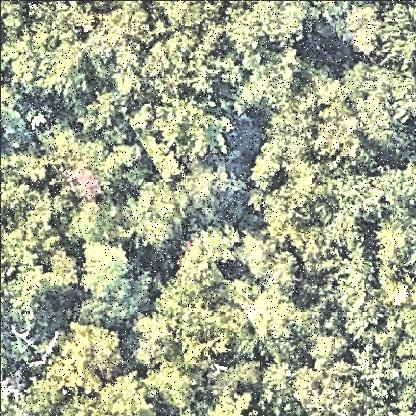tree-top: (6, 8, 91, 97), (134, 29, 220, 100), (347, 61, 416, 147), (47, 324, 130, 394), (145, 94, 231, 161), (1, 172, 57, 269), (43, 130, 117, 201), (93, 4, 153, 81), (339, 1, 411, 65), (223, 2, 312, 50), (174, 219, 242, 281), (260, 176, 322, 243), (76, 240, 138, 306), (128, 181, 188, 248), (162, 266, 215, 340), (290, 364, 364, 416), (249, 292, 308, 357), (2, 266, 62, 329), (128, 314, 185, 377), (234, 234, 296, 291), (311, 108, 371, 166), (367, 214, 416, 285), (336, 249, 375, 338), (176, 160, 235, 218), (236, 59, 297, 115), (98, 371, 158, 416), (301, 327, 351, 371), (212, 357, 262, 399), (161, 371, 204, 415), (85, 86, 127, 130), (1, 317, 26, 379), (58, 202, 94, 245), (1, 73, 23, 141)
